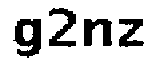2: (48, 2, 79, 50)
g: (12, 17, 45, 58)
n: (80, 16, 113, 50)
z: (115, 14, 149, 49)
